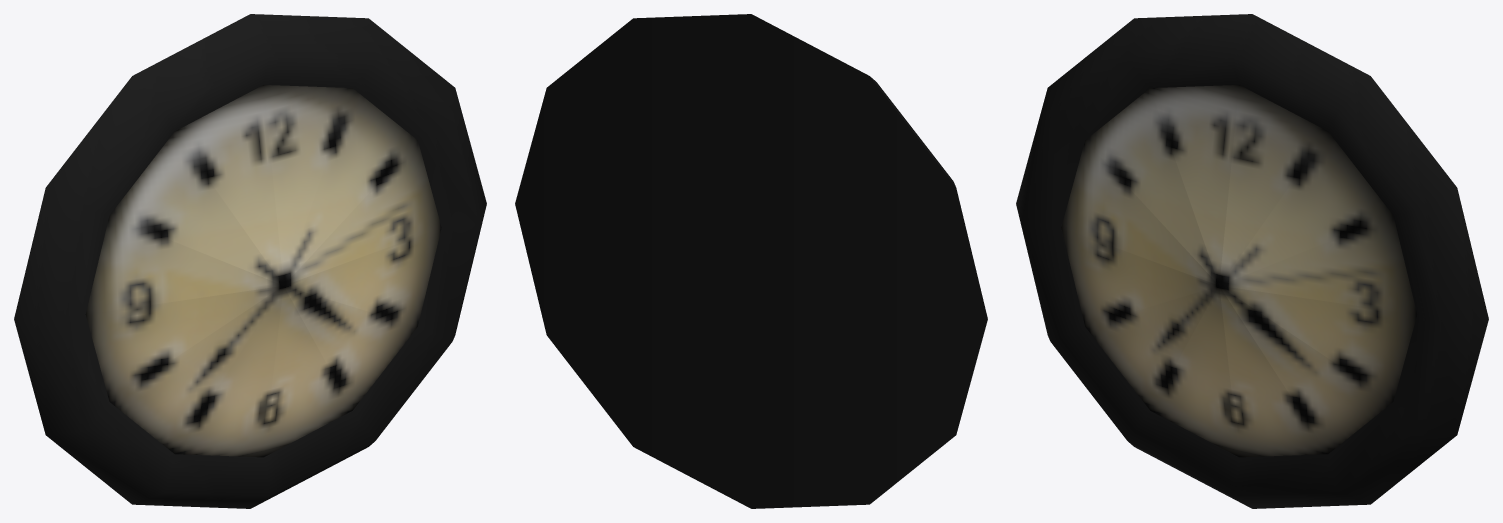
Rendered from Wall_Clock_B.FBX.
The picture shows the model from 3 angles, left to right: view 1: azimuth 30°, elevation 25°; view 2: azimuth 150°, elevation 25°; view 3: azimuth 330°, elevation 25°; orthographic projection.
Parts seen in each view (by area): view 1: Wall_Clock; view 2: Wall_Clock; view 3: Wall_Clock.
Boxes of the visible parts, x1,y1,x2,y2 form: Wall_Clock: (14,14,486,508); Wall_Clock: (515,14,987,508); Wall_Clock: (1016,14,1488,508).
Bounding box in the file's own units: 118 × 118 × 14.32.
